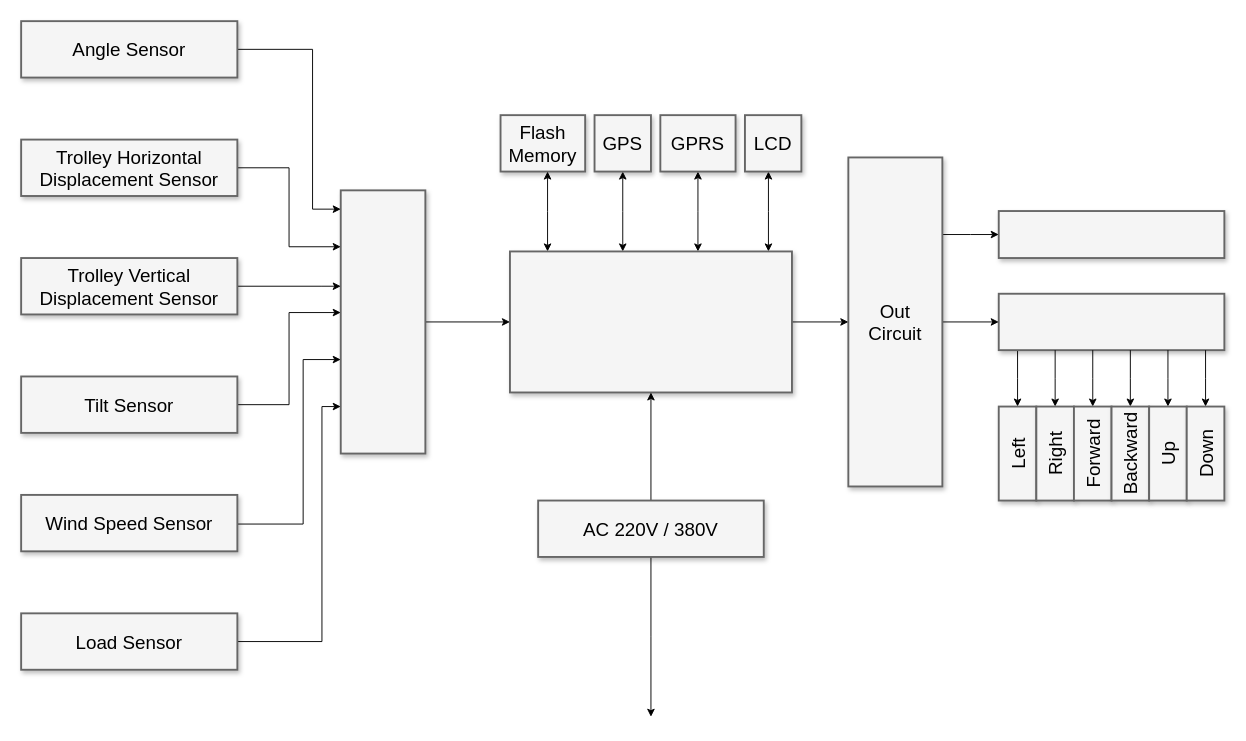
Some shapes in this 1246 by 741 pixel diagram are drawn without their labels. The shapes that lost their labels are listed below. From the top down, each one's centre as x and y in pixels, then its label:
the point at 1112,235: Voice Alarm
the point at 383,323: Input Circuit
the point at 651,323: CPU
the point at 1112,323: Braking controller
